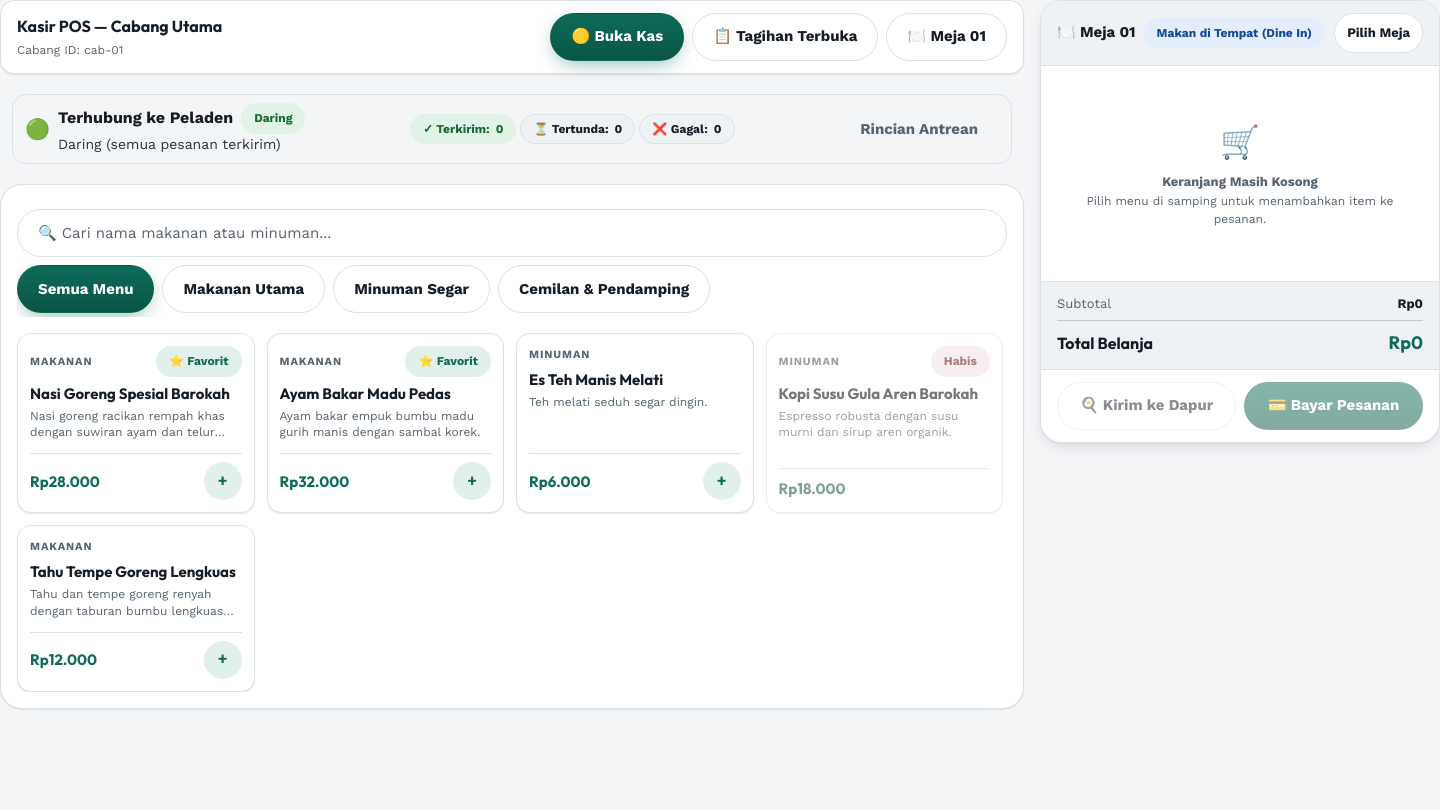
Test case: LayarKasir ↔ DiskonManual (T5-05, sambungan) › diskon di atas batas kasir tidak bisa diterapkan tanpa persetujuan atasan
The image size is (1440, 810).
Click the text "Tahu Tempe Goreng Lengkuas": (136, 573) [30,563,242,582]
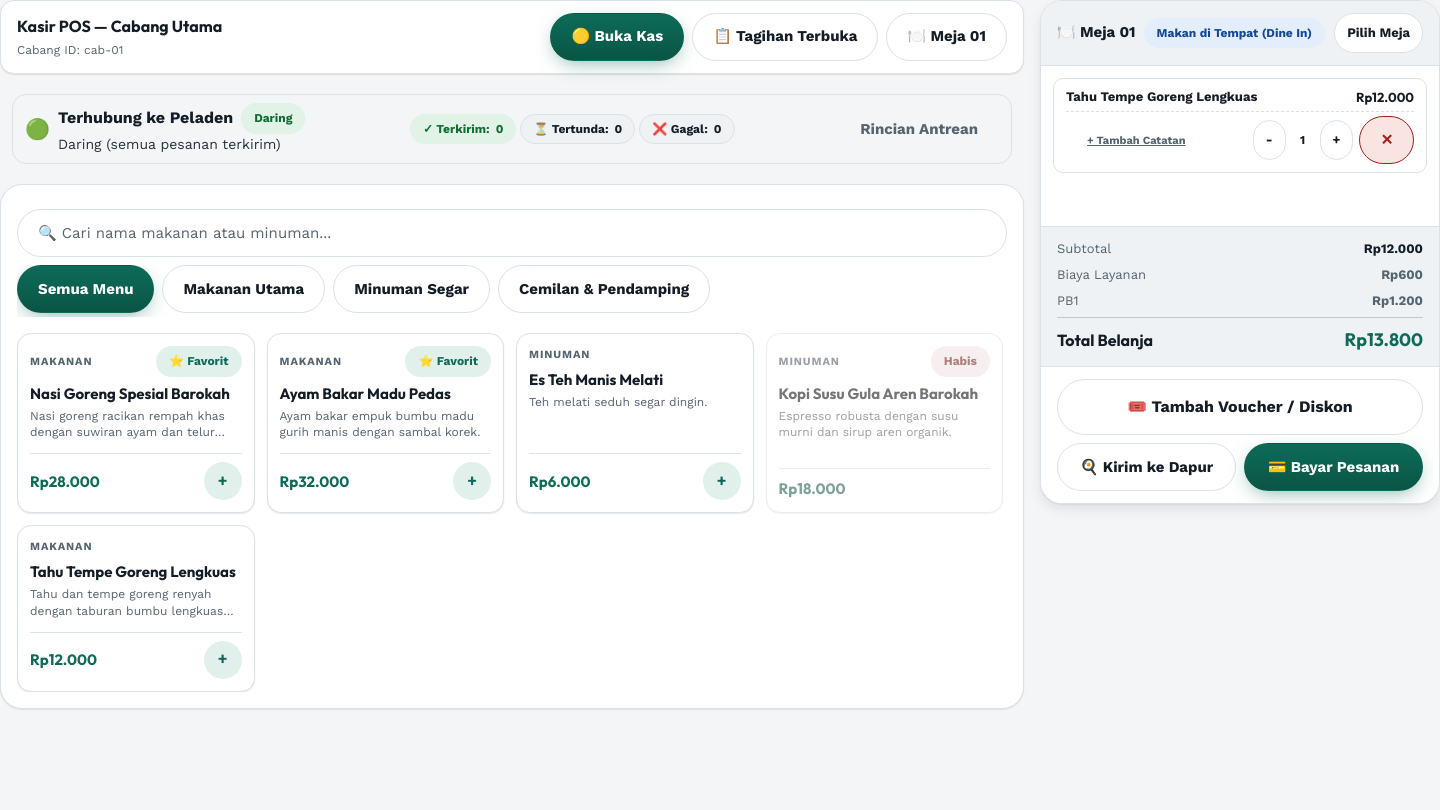
Click the button "🎟️ Tambah Voucher / Diskon": (1240, 407) [1057,379,1423,435]
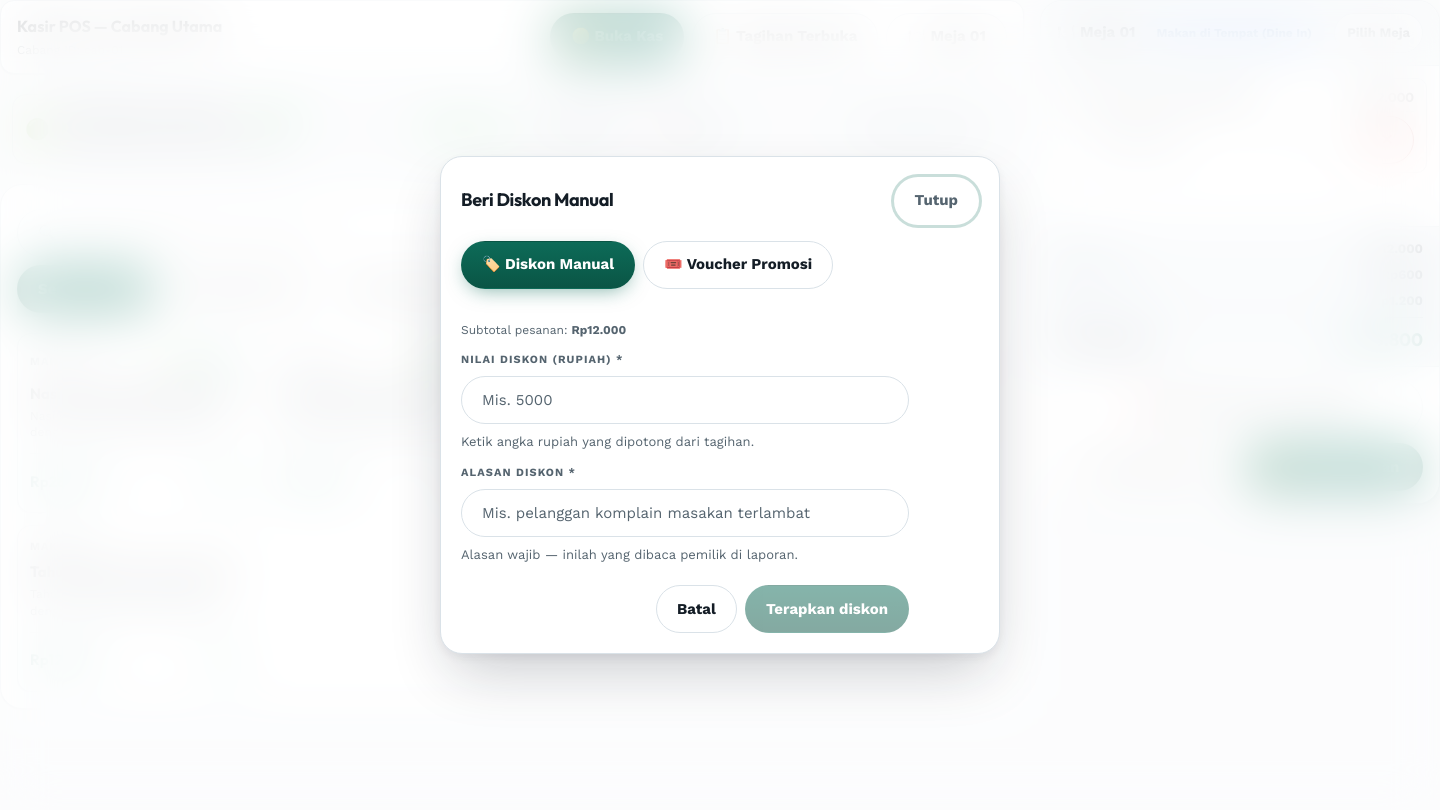
In the field labelled "Nilai diskon (rupiah) *": (685, 400) [461,376,909,424], type "20000"
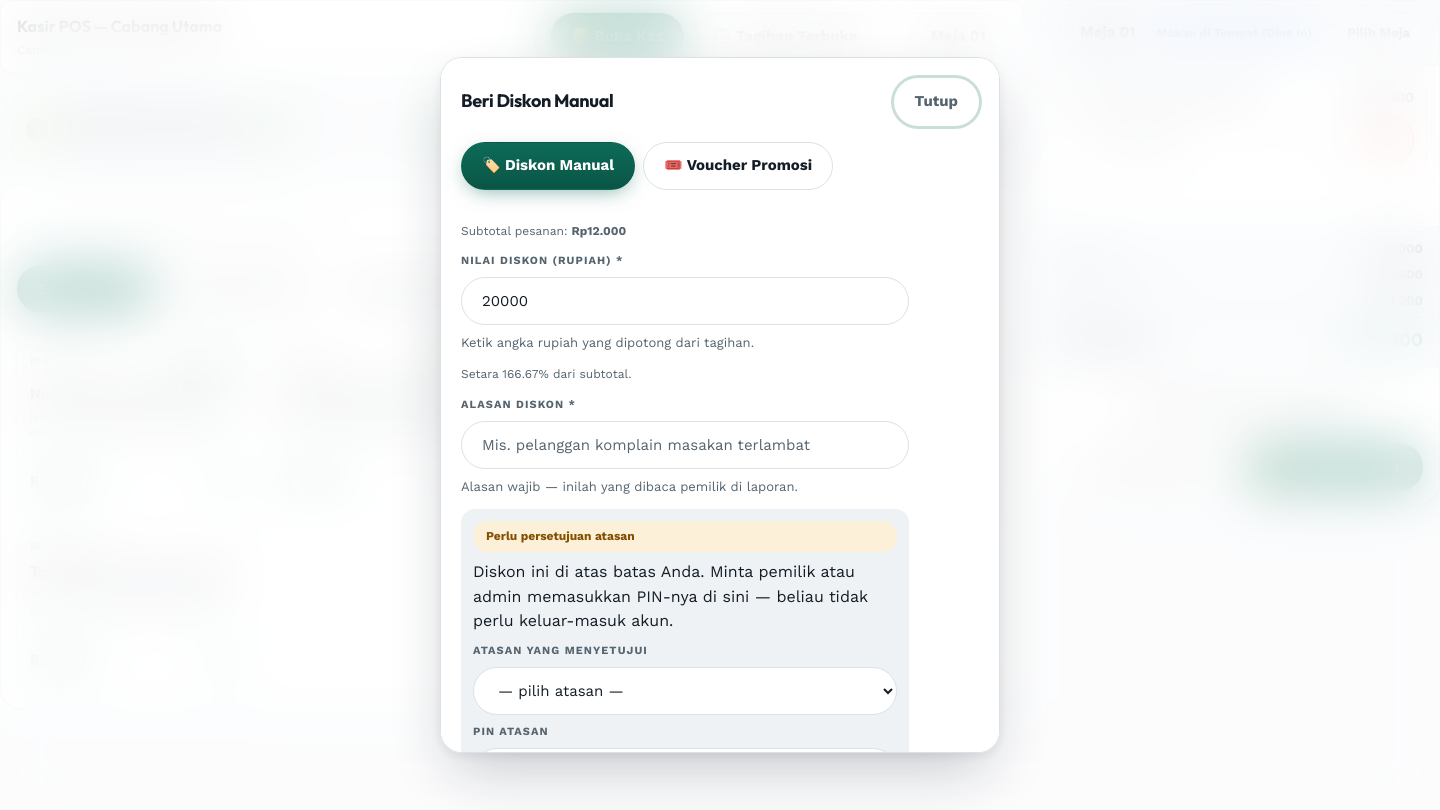
In the field labelled "Alasan diskon *": (685, 445) [461,421,909,469], type "komplain"
(page scrolled)
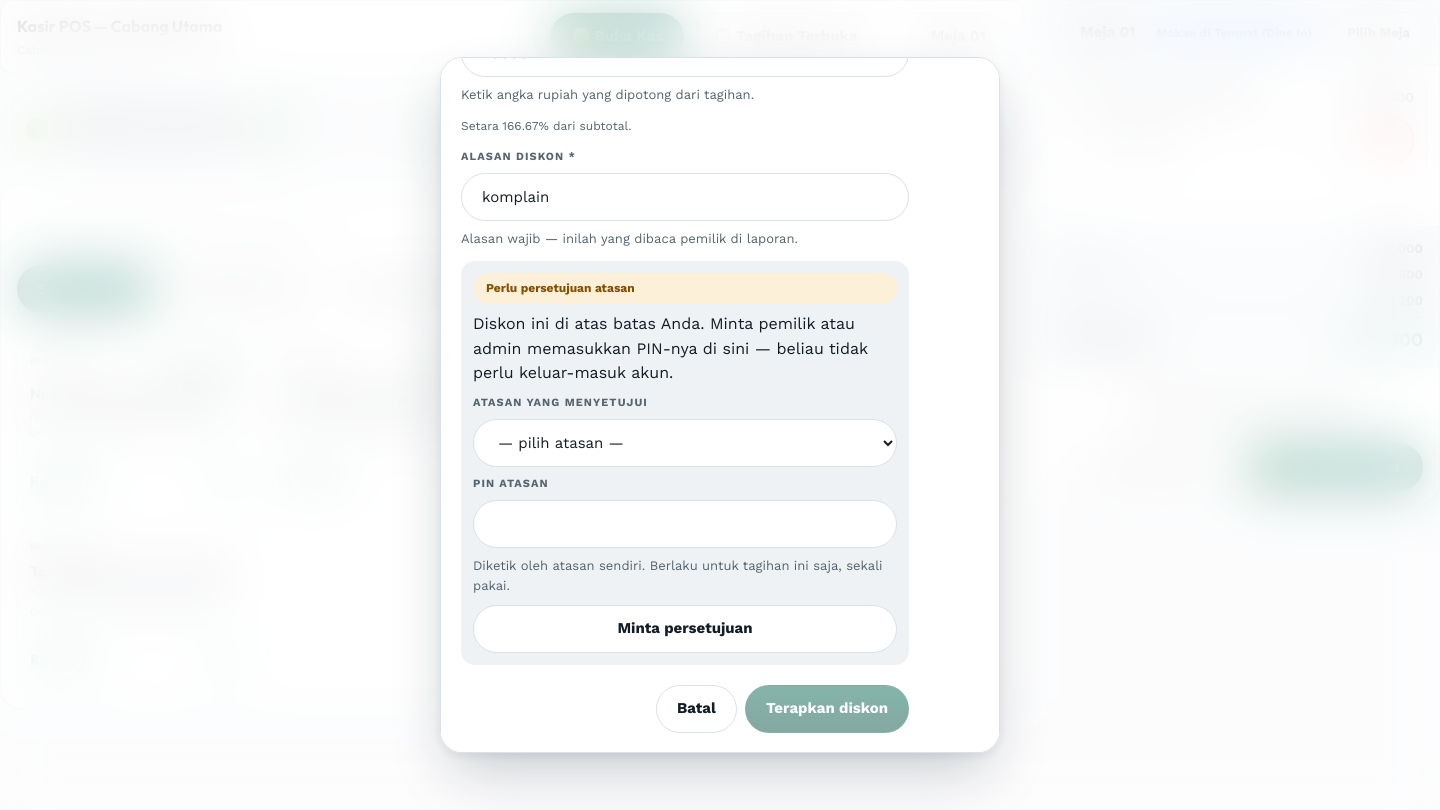
Now the element with test id "diskon-perlu-persetujuan" is shown, box [461,261,909,665]
Now the button "Terapkan diskon" is disabled, box [745,685,909,733]
